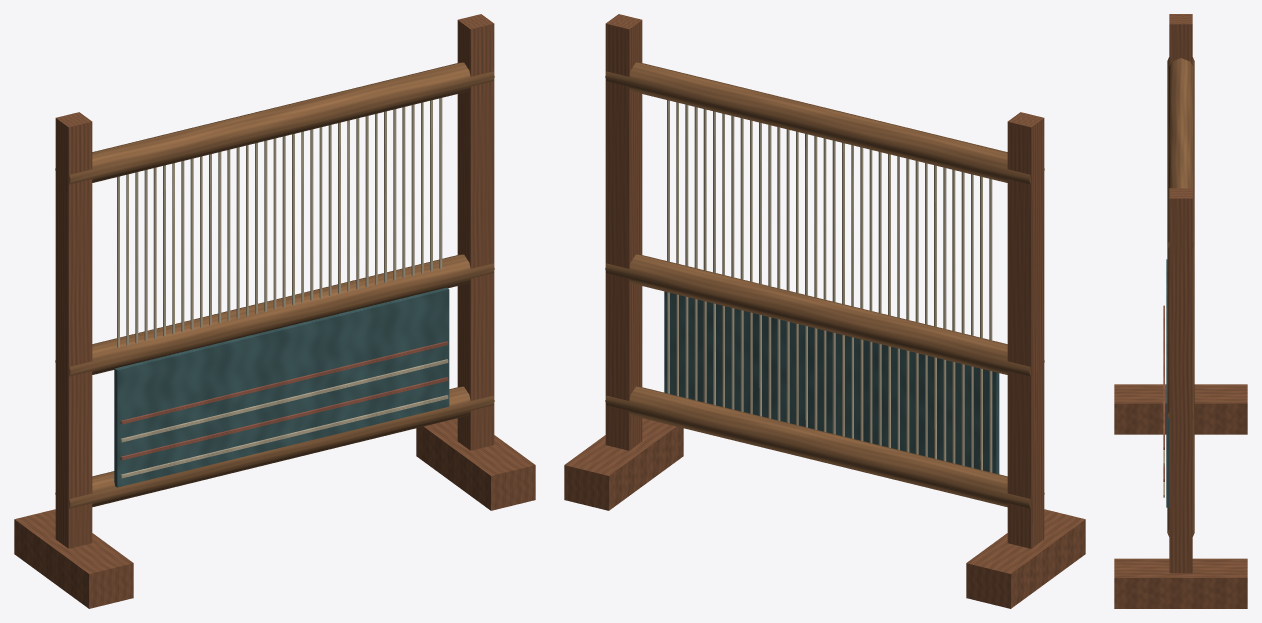
Rendered from loom.glb.
3 renders of one model, left to right at view 1: azimuth 30°, elevation 25°; view 2: azimuth 150°, elevation 25°; view 3: azimuth 270°, elevation 25°, orthographic. The views are drawn at different scales.
Visible parts, largest first — view 1: loom; view 2: loom; view 3: loom.
Boxes of the visible parts, x1,y1,x2,y2 form: loom: (14, 14, 535, 608); loom: (564, 14, 1085, 608); loom: (1114, 14, 1247, 608).
Bounding box in the file's own units: 1.95 × 1.9 × 0.5651.
1 material, 1 textured.
